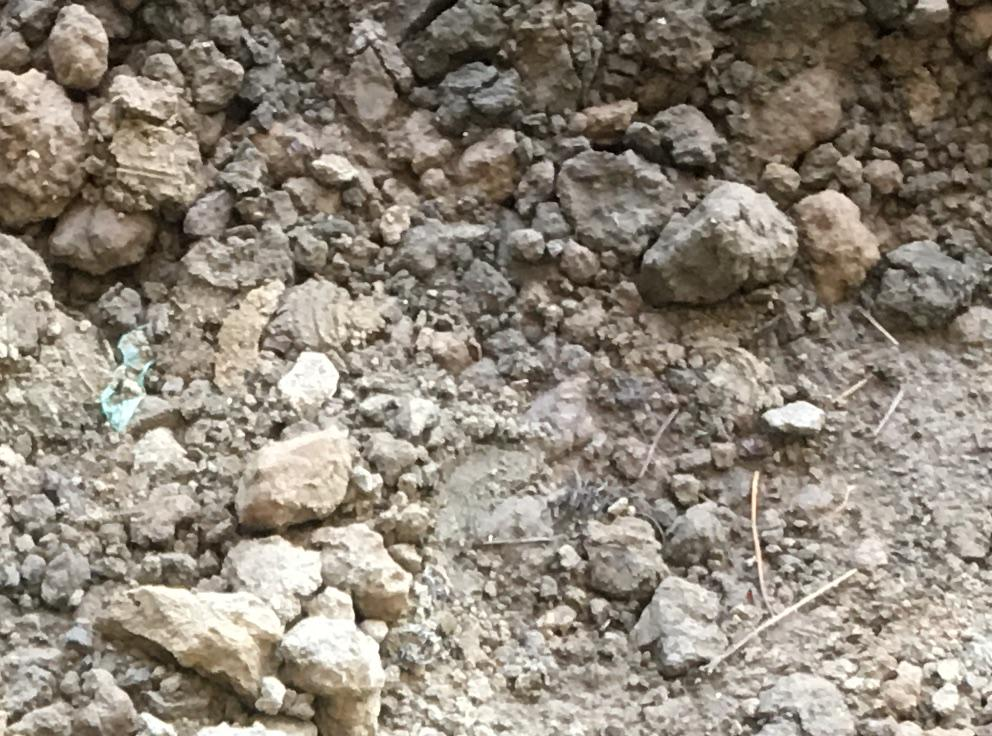block: (640, 175, 794, 306), (112, 582, 272, 695), (227, 433, 367, 528), (791, 183, 887, 298), (282, 607, 386, 704), (883, 238, 974, 328)
